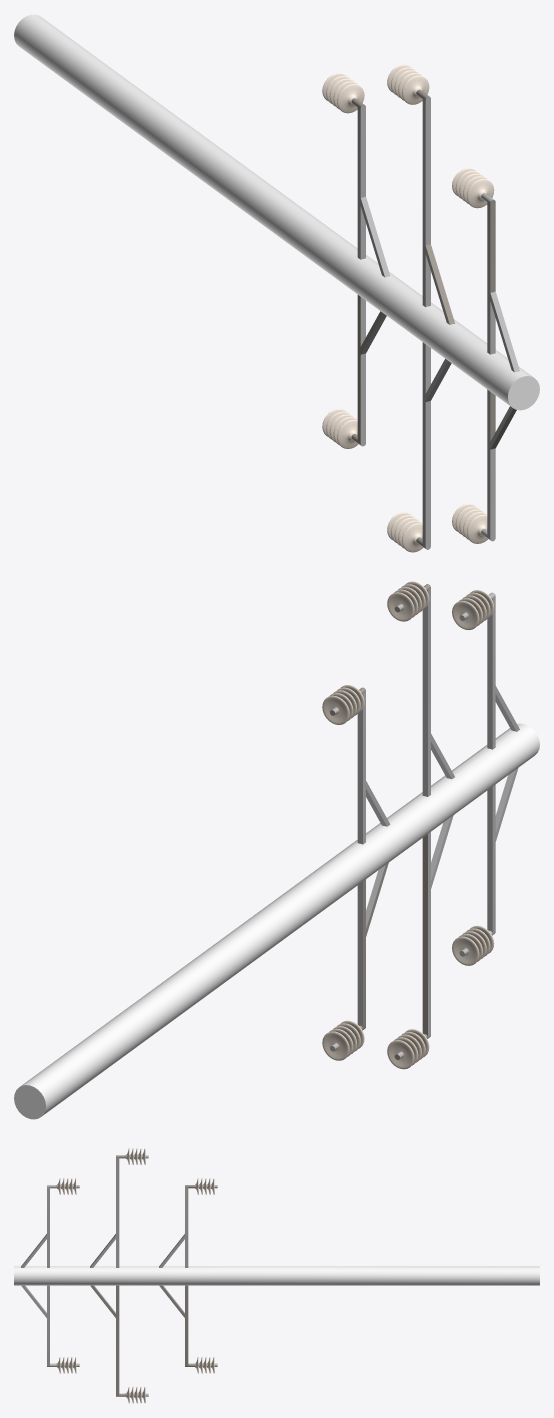
The model's file is elektr_4.obj.
3 views of the same model, one above another, from view 1: azimuth 30°, elevation 25°; view 2: azimuth 150°, elevation 25°; view 3: azimuth 270°, elevation 25° (orthographic). The views are drawn at different scales.
Parts seen in each view (by area): view 1: ________0; view 2: ________0; view 3: ________0.
Boxes of the visible parts, x1,y1,x2,y2 form: ________0: (14,14,539,552); ________0: (14,581,539,1119); ________0: (14,1148,539,1403).
Bounding box in the file's own units: 0.006 × 0.0851 × 0.16.
